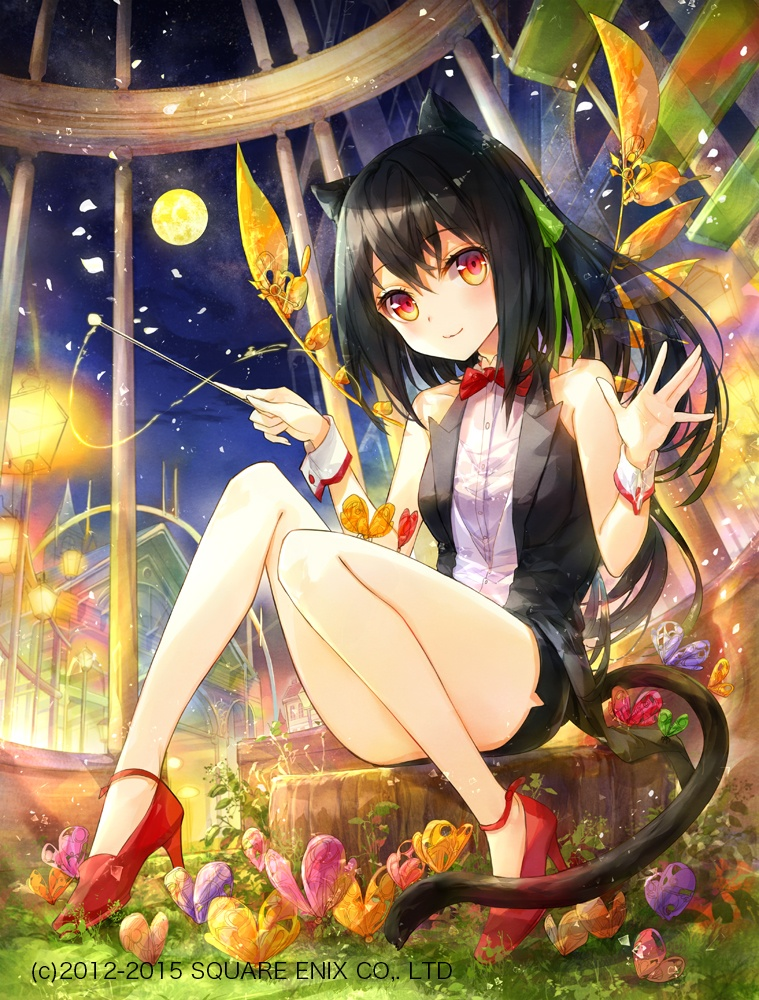纸片人正脸: (326, 123, 560, 372)
